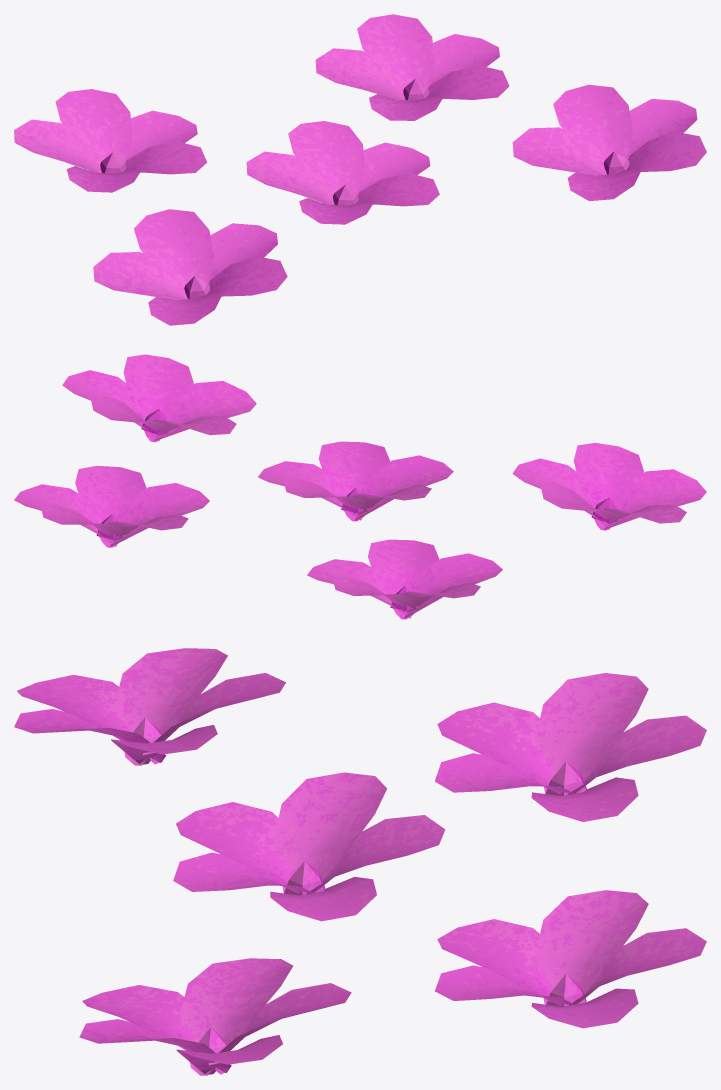
The model's file is miniflowers.fbx.
3 views of the same model, one above another, from view 1: azimuth 30°, elevation 25°; view 2: azimuth 150°, elevation 25°; view 3: azimuth 270°, elevation 25° (orthographic). The views are drawn at different scales.
Visible parts, largest first — view 1: pSphere4.014; view 2: pSphere4.014; view 3: pSphere4.014.
Part boxes in pixels (box(x1,y1,x2,y2)): pSphere4.014: box(14, 14, 706, 325); pSphere4.014: box(14, 354, 706, 619); pSphere4.014: box(14, 648, 706, 1075).
Size of the model in its own units: 1.95 by 0.1881 by 1.32.
1 material, 1 textured.
